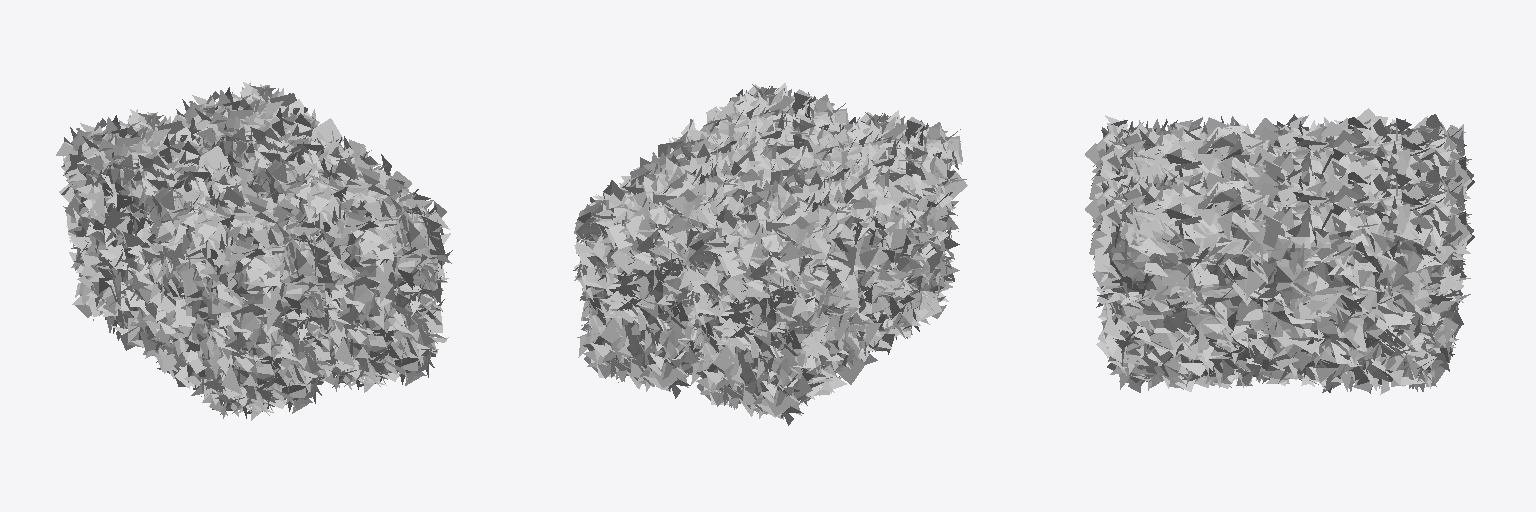
Rendered from NewTriBush.obj.
3 renders of one model, left to right at view 1: azimuth 30°, elevation 25°; view 2: azimuth 150°, elevation 25°; view 3: azimuth 270°, elevation 25°, orthographic.
Parts seen in each view (by area): view 1: NewTriBush:Plane06, NewTriBush:Plane07; view 2: NewTriBush:Plane06, NewTriBush:Plane07; view 3: NewTriBush:Plane07, NewTriBush:Plane06.
Part boxes in pixels (x1,y1,x2,y2): NewTriBush:Plane06: (56,109,339,420); NewTriBush:Plane07: (172,82,452,392); NewTriBush:Plane06: (685,110,967,425); NewTriBush:Plane07: (573,83,848,398); NewTriBush:Plane07: (1085,163,1474,394); NewTriBush:Plane06: (1085,108,1474,293).
Size of the model in its own units: 195 by 152 by 269.